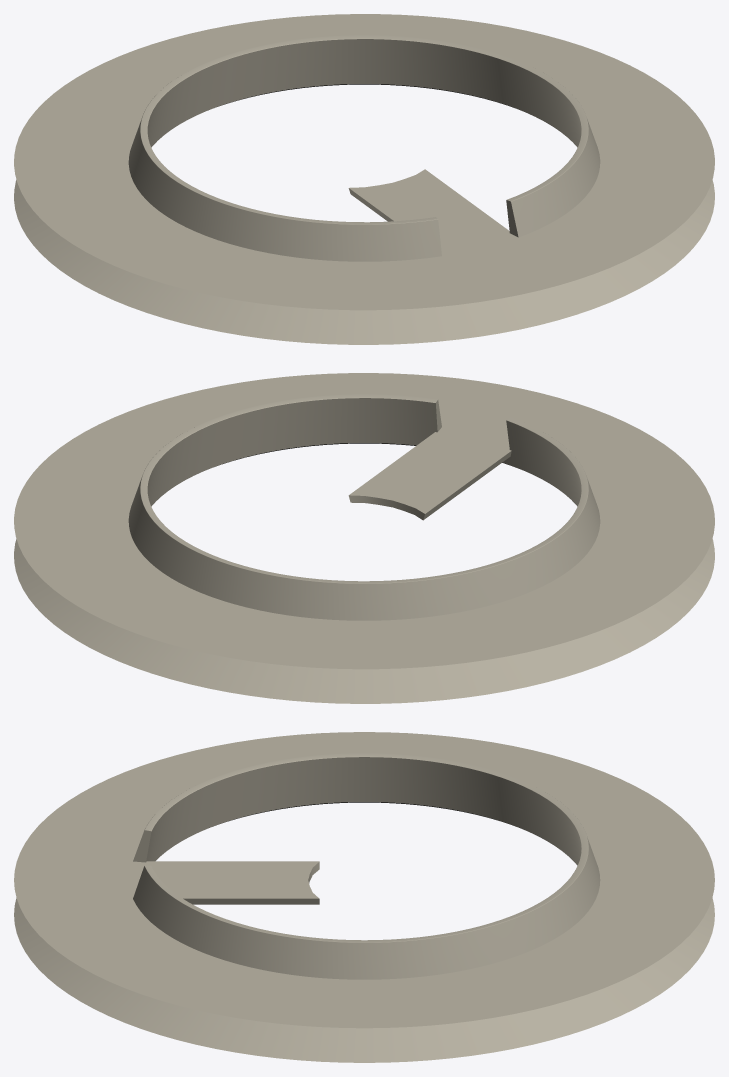
File: OV lvl Floors 1.fbx
3 renders of one model, top to bottom at view 1: azimuth 30°, elevation 25°; view 2: azimuth 150°, elevation 25°; view 3: azimuth 270°, elevation 25°, orthographic.
Visible parts, largest first — view 1: polySurface217; view 2: polySurface217; view 3: polySurface217.
Part boxes in pixels (x1=…): polySurface217: x1=14, y1=14, x2=714, y2=344; polySurface217: x1=14, y1=373, x2=714, y2=703; polySurface217: x1=14, y1=732, x2=714, y2=1062.
Size of the model in its own units: 1805 by 190 by 1805.
